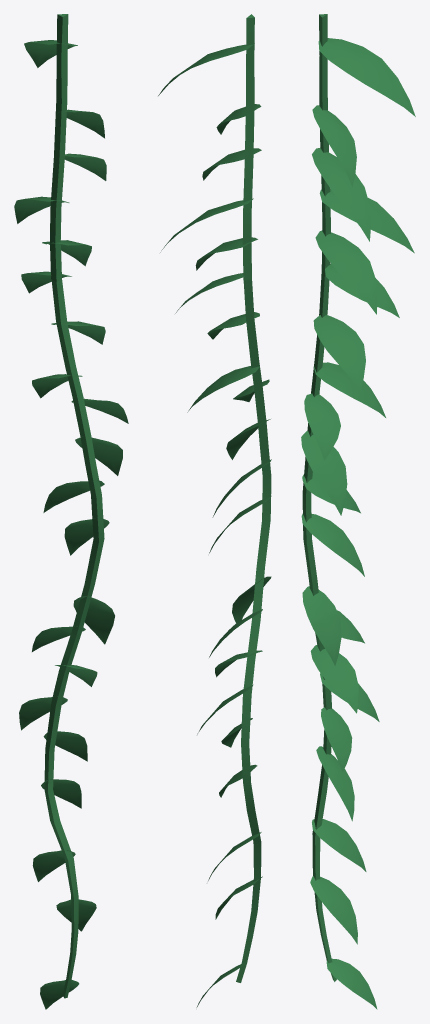
Rendered from vine_curved_C_scanden.fbx.
3 renders of one model, left to right at view 1: azimuth 90°, elevation 25°; view 2: azimuth 150°, elevation 25°; view 3: azimuth 330°, elevation 25°, orthographic. The views are drawn at different scales.
Visible parts, largest first — view 1: vine_A_pack_scanden_root_E1, vine_scanden_A_leaf_A444, vine_curved_C_scanden_root, vine_scanden_A_leaf_A436, vine_scanden_A_leaf_A441, vine_scanden_A_leaf_A443, vine_scanden_A_leaf_A445, vine_scanden_A_leaf_A447, vine_scanden_A_leaf_A433, vine_scanden_A_leaf_A439, vine_scanden_A_leaf_A446, vine_scanden_A_leaf_A434 (+10 smaller); view 2: vine_A_pack_scanden_root_E1, vine_scanden_A_leaf_A435, vine_scanden_A_leaf_A444, vine_scanden_A_leaf_A433, vine_scanden_A_leaf_A434, vine_curved_C_scanden_root, vine_scanden_A_leaf_A430, vine_scanden_A_leaf_A440, vine_scanden_A_leaf_A431, vine_scanden_A_leaf_A442, vine_scanden_A_leaf_A432; view 3: vine_A_pack_scanden_root_E1, vine_scanden_A_leaf_A433, vine_scanden_A_leaf_A430, vine_scanden_A_leaf_A431, vine_scanden_A_leaf_A440, vine_curved_C_scanden_root, vine_scanden_A_leaf_A444, vine_scanden_A_leaf_A432, vine_scanden_A_leaf_A437, vine_scanden_A_leaf_A438, vine_scanden_A_leaf_A436, vine_scanden_A_leaf_A434 (+10 smaller).
Part boxes in pixels (left/top/right/bottom): vine_A_pack_scanden_root_E1: left=44, top=14, right=104, bottom=998; vine_scanden_A_leaf_A444: left=73, top=596, right=114, bottom=644; vine_curved_C_scanden_root: left=75, top=436, right=122, bottom=475; vine_scanden_A_leaf_A436: left=64, top=518, right=109, bottom=555; vine_scanden_A_leaf_A441: left=43, top=480, right=104, bottom=512; vine_scanden_A_leaf_A443: left=19, top=696, right=67, bottom=730; vine_scanden_A_leaf_A445: left=32, top=850, right=75, bottom=881; vine_scanden_A_leaf_A447: left=43, top=731, right=87, bottom=761; vine_scanden_A_leaf_A433: left=24, top=40, right=77, bottom=67; vine_scanden_A_leaf_A439: left=41, top=779, right=81, bottom=808; vine_scanden_A_leaf_A446: left=56, top=899, right=96, bottom=931; vine_scanden_A_leaf_A434: left=14, top=196, right=69, bottom=223; vine_A_pack_scanden_root_E1: left=236, top=14, right=271, bottom=982; vine_scanden_A_leaf_A435: left=187, top=366, right=259, bottom=412; vine_scanden_A_leaf_A444: left=232, top=576, right=271, bottom=623; vine_scanden_A_leaf_A433: left=158, top=44, right=253, bottom=95; vine_scanden_A_leaf_A434: left=160, top=198, right=253, bottom=252; vine_curved_C_scanden_root: left=226, top=419, right=270, bottom=459; vine_scanden_A_leaf_A430: left=195, top=237, right=257, bottom=270; vine_scanden_A_leaf_A440: left=202, top=148, right=261, bottom=180; vine_scanden_A_leaf_A431: left=207, top=312, right=259, bottom=339; vine_scanden_A_leaf_A442: left=175, top=273, right=244, bottom=313; vine_scanden_A_leaf_A432: left=216, top=104, right=261, bottom=134; vine_A_pack_scanden_root_E1: left=302, top=14, right=336, bottom=981; vine_scanden_A_leaf_A433: left=318, top=38, right=415, bottom=116; vine_scanden_A_leaf_A430: left=315, top=230, right=377, bottom=314; vine_scanden_A_leaf_A431: left=313, top=315, right=365, bottom=391; vine_scanden_A_leaf_A440: left=312, top=148, right=370, bottom=241; vine_curved_C_scanden_root: left=301, top=431, right=347, bottom=515; vine_scanden_A_leaf_A444: left=302, top=586, right=341, bottom=665; vine_scanden_A_leaf_A432: left=312, top=105, right=356, bottom=186; vine_scanden_A_leaf_A437: left=310, top=645, right=358, bottom=713; vine_scanden_A_leaf_A438: left=304, top=393, right=340, bottom=460; vine_scanden_A_leaf_A436: left=301, top=513, right=364, bottom=576; vine_scanden_A_leaf_A434: left=319, top=189, right=414, bottom=253.
Bounding box in the file's own units: 27.32 × 285 × 29.07.
